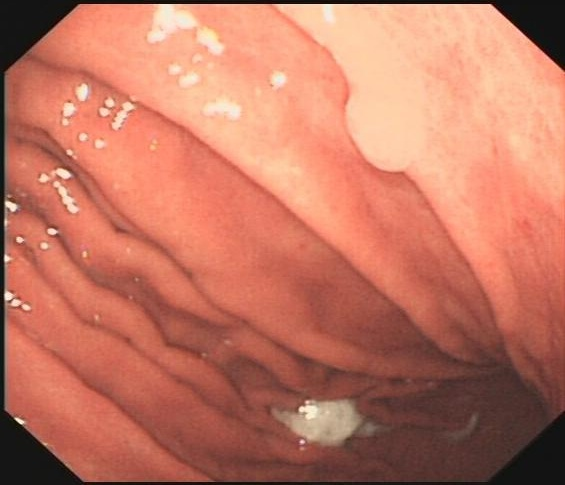Polyp: (339, 85, 423, 176)
